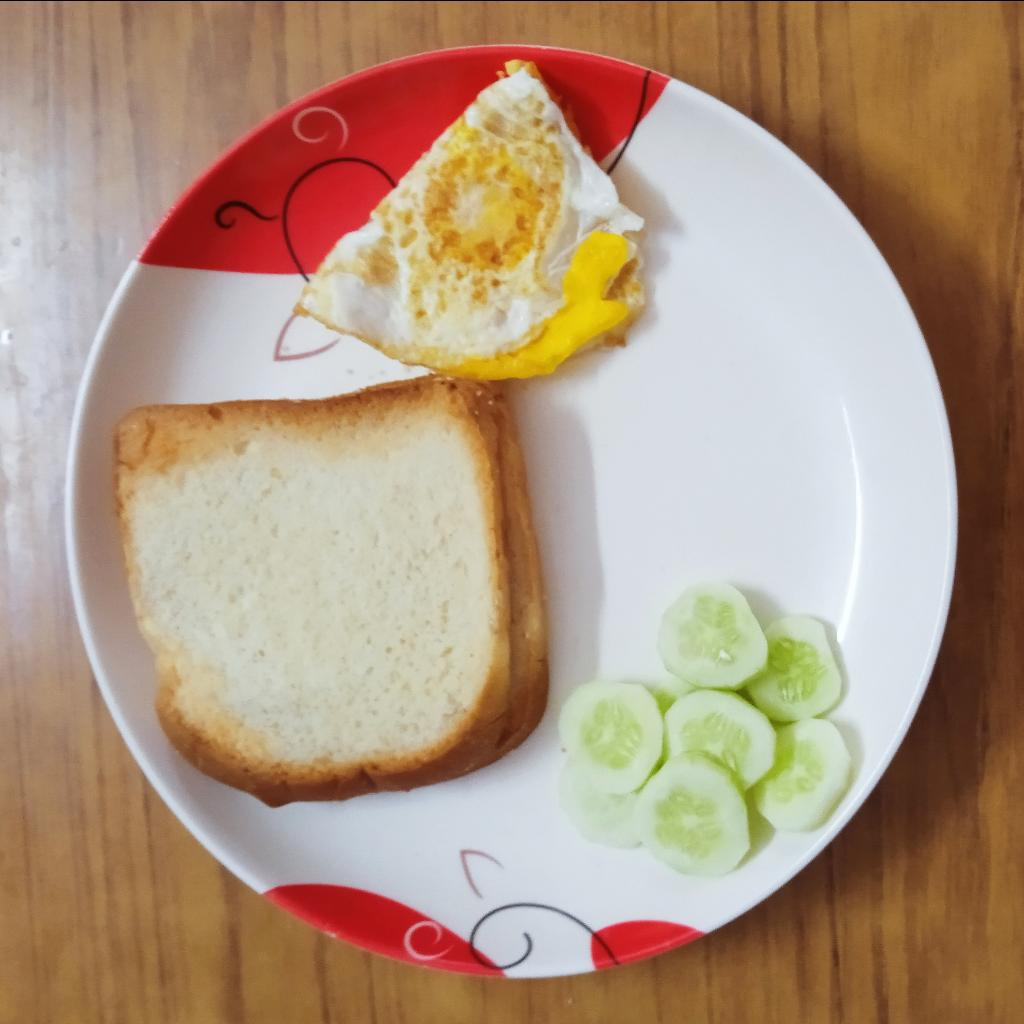bread: (109, 374, 552, 806)
cucumber: (560, 580, 853, 874)
egg-poached: (295, 57, 650, 377)
